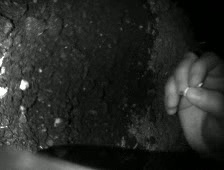corn: (17, 77, 31, 93), (181, 85, 193, 96), (193, 80, 206, 89)
